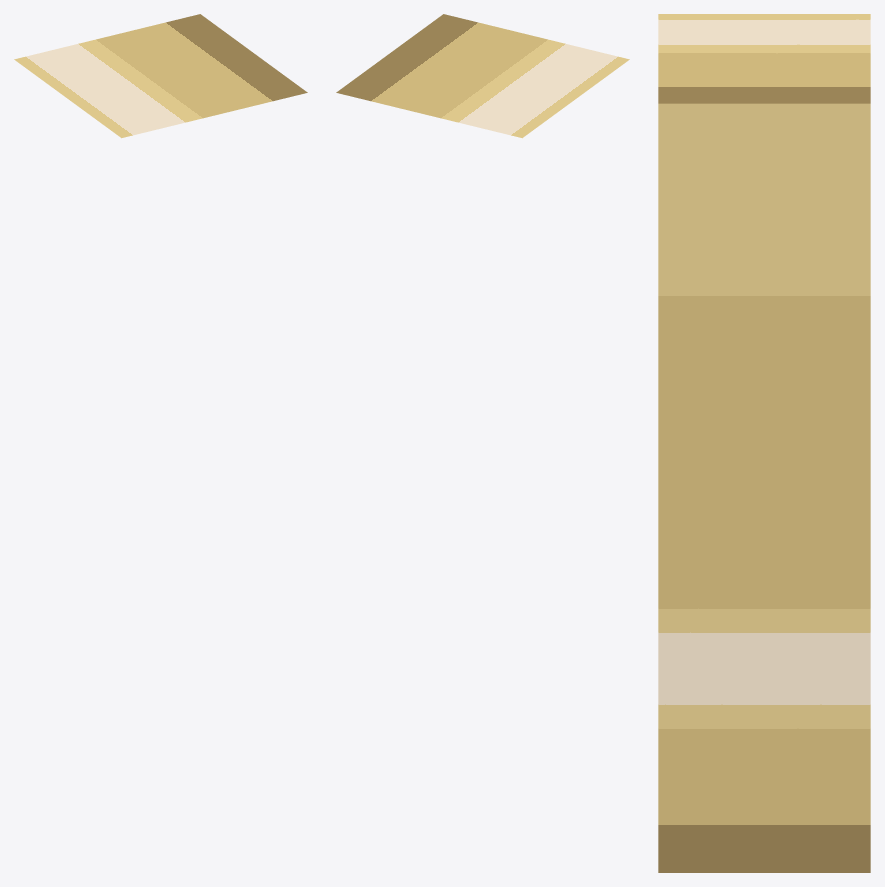
The picture shows the model from 3 angles, left to right: view 1: azimuth 30°, elevation 25°; view 2: azimuth 150°, elevation 25°; view 3: azimuth 270°, elevation 25°; orthographic projection.
Size of the model in its own units: 1 by 4 by 1.
Materials: 1 (1 with a texture image).
